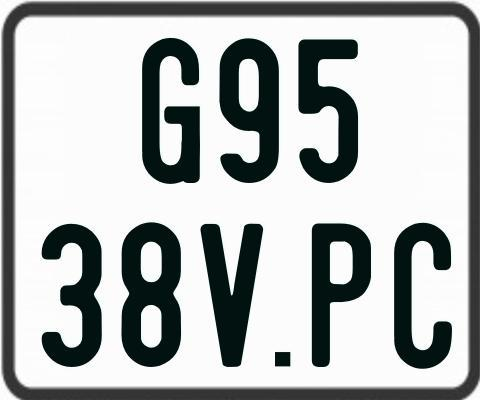3: (41, 221, 103, 368)
5: (297, 38, 357, 186)
8: (120, 221, 182, 372)
9: (219, 38, 281, 183)
C: (391, 223, 450, 373)
G: (142, 37, 203, 183)
P: (310, 222, 373, 366)
V: (201, 224, 266, 373)
